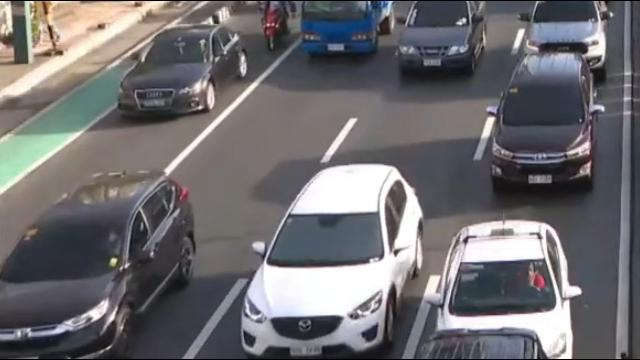car: (0, 171, 197, 357), (239, 163, 424, 356), (426, 219, 578, 360), (488, 53, 605, 189), (116, 23, 248, 119), (393, 0, 492, 79), (513, 0, 611, 74)
motorcycle: (257, 0, 290, 55)
truck: (295, 0, 396, 63)
